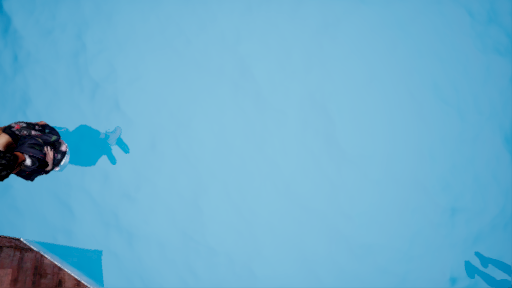person: (3, 114, 114, 182)
